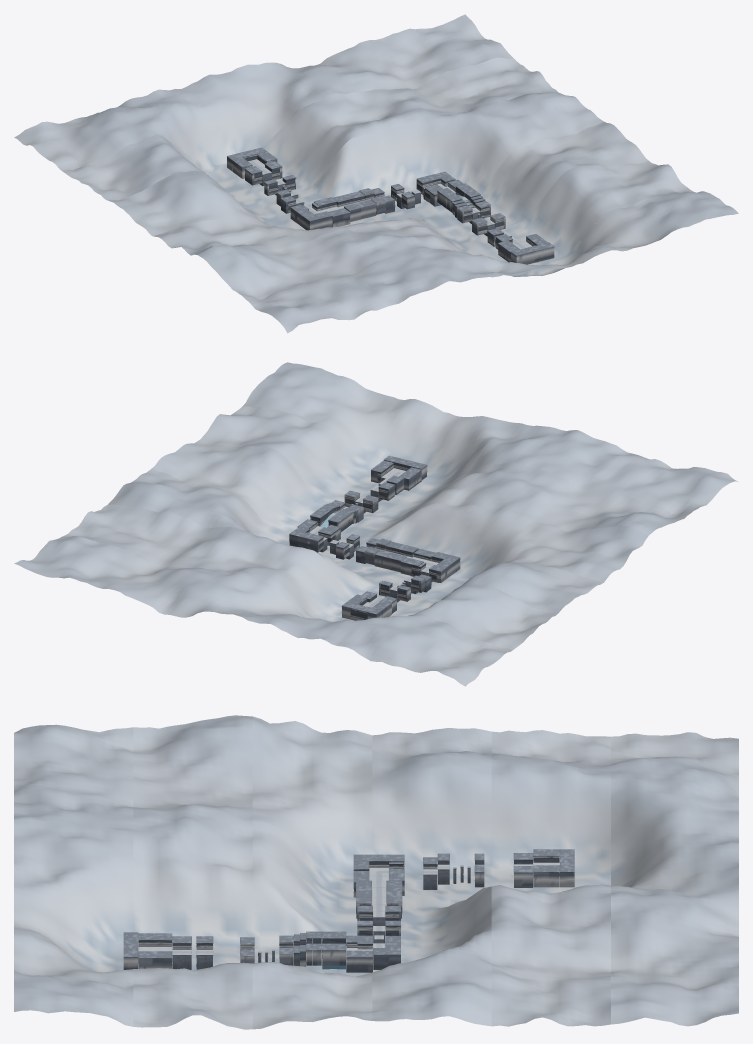
Rendered from glacier_bridge_terrain.glb.
The picture shows the model from 3 angles, top to bottom: view 1: azimuth 30°, elevation 25°; view 2: azimuth 150°, elevation 25°; view 3: azimuth 270°, elevation 25°; orthographic projection. The views are drawn at different scales.
Visible parts, largest first — view 1: backdrop_5, backdrop_3, backdrop_4, backdrop_1, backdrop_0, backdrop_2, terrain_H, terrain_I, terrain_E, terrain_A, terrain_F, terrain_C (+3 smaller); view 2: backdrop_0, backdrop_2, backdrop_5, backdrop_1, backdrop_4, backdrop_3, terrain_H, terrain_E, terrain_I, terrain_A, terrain_F, terrain_B (+3 smaller); view 3: backdrop_5, backdrop_0, backdrop_1, backdrop_4, backdrop_2, backdrop_3, terrain_H, terrain_I, terrain_E, terrain_D, terrain_A, terrain_B (+3 smaller).
Boxes of the visible parts, x1,y1,x2,y2 form: backdrop_5: [14, 14, 512, 171]; backdrop_3: [108, 92, 603, 236]; backdrop_4: [63, 57, 558, 203]; backdrop_1: [198, 161, 693, 299]; backdrop_0: [243, 191, 738, 333]; backdrop_2: [153, 121, 648, 255]; terrain_H: [264, 175, 332, 230]; terrain_I: [227, 147, 282, 186]; terrain_E: [371, 171, 455, 213]; terrain_A: [498, 234, 554, 264]; terrain_F: [332, 188, 385, 221]; terrain_C: [446, 190, 490, 223]; backdrop_0: [243, 362, 737, 514]; backdrop_2: [153, 441, 648, 582]; backdrop_5: [14, 536, 513, 686]; backdrop_1: [198, 406, 693, 535]; backdrop_4: [62, 504, 558, 649]; backdrop_3: [108, 468, 603, 613]; terrain_H: [379, 552, 460, 602]; terrain_E: [289, 526, 379, 563]; terrain_I: [341, 591, 396, 620]; terrain_A: [371, 455, 427, 490]; terrain_F: [365, 538, 418, 572]; terrain_B: [344, 475, 403, 513]; backdrop_5: [611, 732, 738, 1026]; backdrop_0: [14, 724, 133, 1026]; backdrop_1: [133, 715, 252, 1029]; backdrop_4: [491, 730, 610, 1026]; backdrop_2: [252, 716, 372, 1029]; backdrop_3: [372, 728, 491, 1026]; terrain_H: [353, 853, 484, 889]; terrain_I: [513, 849, 574, 887]; terrain_E: [357, 905, 400, 969]; terrain_D: [322, 931, 372, 972]; terrain_A: [123, 932, 172, 969]; terrain_B: [172, 936, 254, 969].
Size of the model in its own units: 567 by 66.68 by 595.
